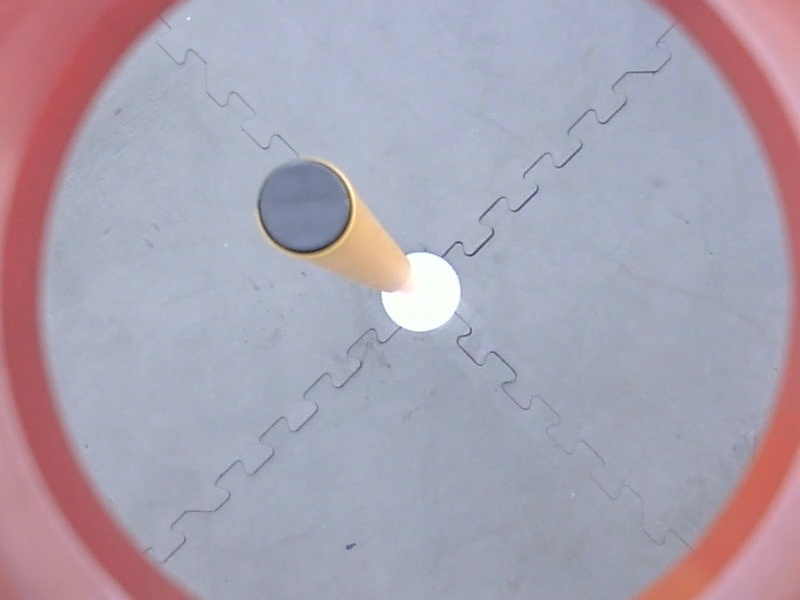tip: (251, 152, 362, 263)
